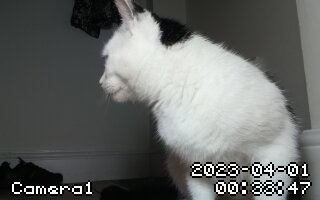bad: (96, 3, 301, 199)
